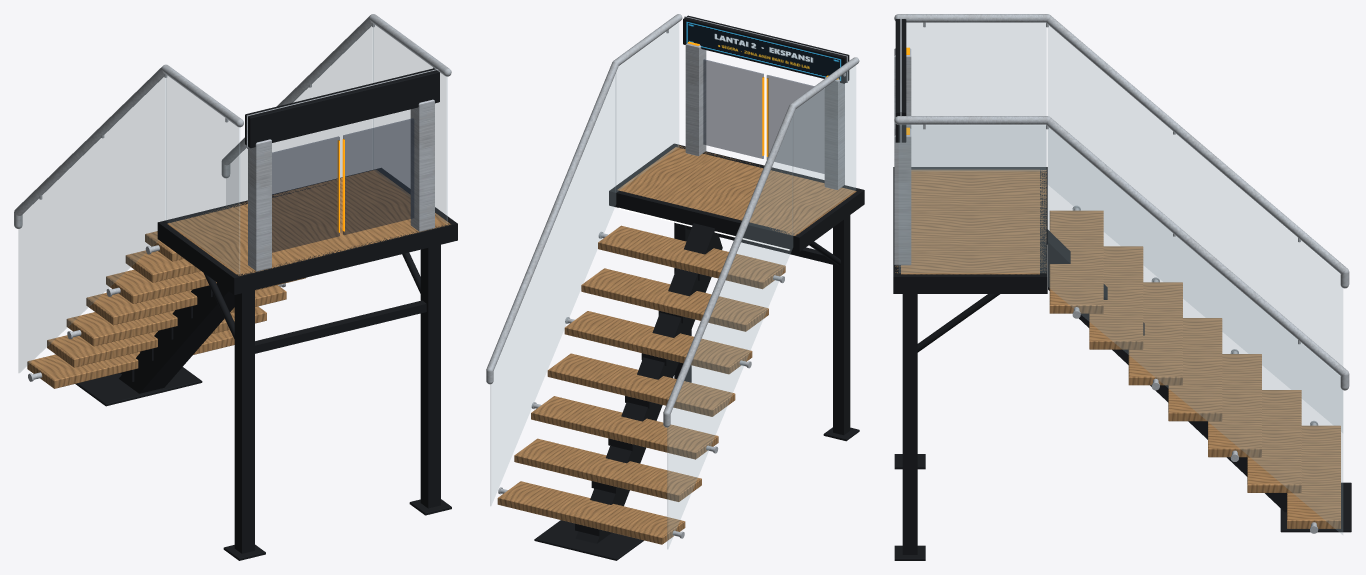
File: Office_Access_Floor2_Staircase.glb
3 views of the same model, side by side, from view 1: azimuth 30°, elevation 25°; view 2: azimuth 150°, elevation 25°; view 3: azimuth 270°, elevation 25° (orthographic). The views are drawn at different scales.
Parts seen in each view (by area): view 1: Balustrade_Tempered_Glass, MonoStringer_And_Mezzanine_Steel, Solid_WhiteOak_Treads_And_Deck, SpeedGate_Smoked_Wing_1, Expansion_Header_Chassis, SpeedGate_Smoked_Wing_0, Stainless_Tubular_Handrails, SpeedGate_Post_1, SpeedGate_Post_0; view 2: Balustrade_Tempered_Glass, Solid_WhiteOak_Treads_And_Deck, MonoStringer_And_Mezzanine_Steel, Stainless_Tubular_Handrails, SpeedGate_Smoked_Wing_1, SpeedGate_Smoked_Wing_0, Floor2_Expansion_Sign_Face, SpeedGate_Post_1, SpeedGate_Post_0, Expansion_Header_Chassis, Stainless_Standoff_Pucks; view 3: Balustrade_Tempered_Glass, Solid_WhiteOak_Treads_And_Deck, MonoStringer_And_Mezzanine_Steel, Stainless_Tubular_Handrails, SpeedGate_Post_1, Expansion_Header_Chassis.
Part boxes in pixels (x1=…): Balustrade_Tempered_Glass: x1=18, y1=24, x2=447, y2=372; MonoStringer_And_Mezzanine_Steel: x1=75, y1=168, x2=457, y2=560; Solid_WhiteOak_Treads_And_Deck: x1=27, y1=170, x2=450, y2=388; SpeedGate_Smoked_Wing_1: x1=343, y1=118, x2=414, y2=234; Expansion_Header_Chassis: x1=245, y1=68, x2=439, y2=148; SpeedGate_Smoked_Wing_0: x1=272, y1=136, x2=339, y2=252; Stainless_Tubular_Handrails: x1=14, y1=14, x2=451, y2=228; SpeedGate_Post_1: x1=410, y1=99, x2=434, y2=231; SpeedGate_Post_0: x1=248, y1=139, x2=271, y2=271; Balustrade_Tempered_Glass: x1=490, y1=22, x2=855, y2=548; Solid_WhiteOak_Treads_And_Deck: x1=497, y1=145, x2=856, y2=544; MonoStringer_And_Mezzanine_Steel: x1=534, y1=143, x2=864, y2=560; Stainless_Tubular_Handrails: x1=486, y1=14, x2=859, y2=427; SpeedGate_Smoked_Wing_1: x1=703, y1=59, x2=763, y2=158; SpeedGate_Smoked_Wing_0: x1=766, y1=75, x2=824, y2=173; Floor2_Expansion_Sign_Face: x1=686, y1=21, x2=841, y2=81; SpeedGate_Post_1: x1=685, y1=43, x2=706, y2=156; SpeedGate_Post_0: x1=824, y1=77, x2=844, y2=189; Expansion_Header_Chassis: x1=683, y1=15, x2=849, y2=83; Stainless_Standoff_Pucks: x1=498, y1=231, x2=784, y2=538; Balustrade_Tempered_Glass: x1=899, y1=23, x2=1343, y2=534; Solid_WhiteOak_Treads_And_Deck: x1=895, y1=169, x2=1340, y2=528; MonoStringer_And_Mezzanine_Steel: x1=893, y1=167, x2=1351, y2=560; Stainless_Tubular_Handrails: x1=894, y1=14, x2=1349, y2=390; SpeedGate_Post_1: x1=894, y1=128, x2=911, y2=265; Expansion_Header_Chassis: x1=895, y1=19, x2=906, y2=142.
Bounding box in the file's own units: 1.25 × 2.35 × 2.2.
Materials: 8 (3 with a texture image).
